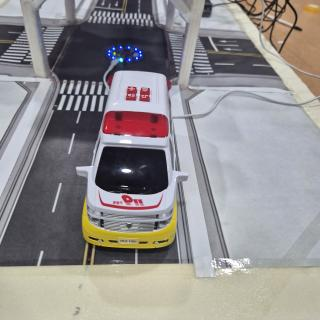Ambulance: (76, 71, 188, 249)
